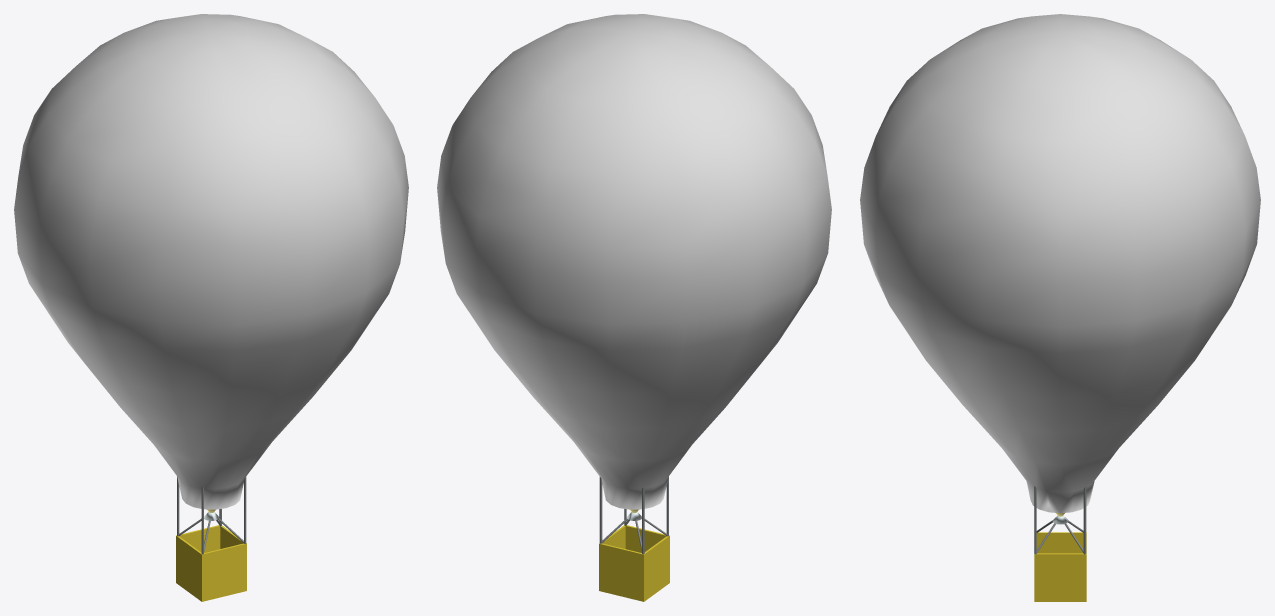
Rendered from balloon_balloon1t.glb.
3 renders of one model, left to right at view 1: azimuth 30°, elevation 25°; view 2: azimuth 150°, elevation 25°; view 3: azimuth 270°, elevation 25°, orthographic.
Parts seen in each view (by area): view 1: airframe; view 2: airframe; view 3: airframe.
Boxes of the visible parts, left/top/right/bottom form: airframe: left=14, top=14, right=408, bottom=601; airframe: left=437, top=14, right=831, bottom=601; airframe: left=860, top=14, right=1260, bottom=601.
Bounding box in the file's own units: 35.15 × 53.91 × 35.15.
